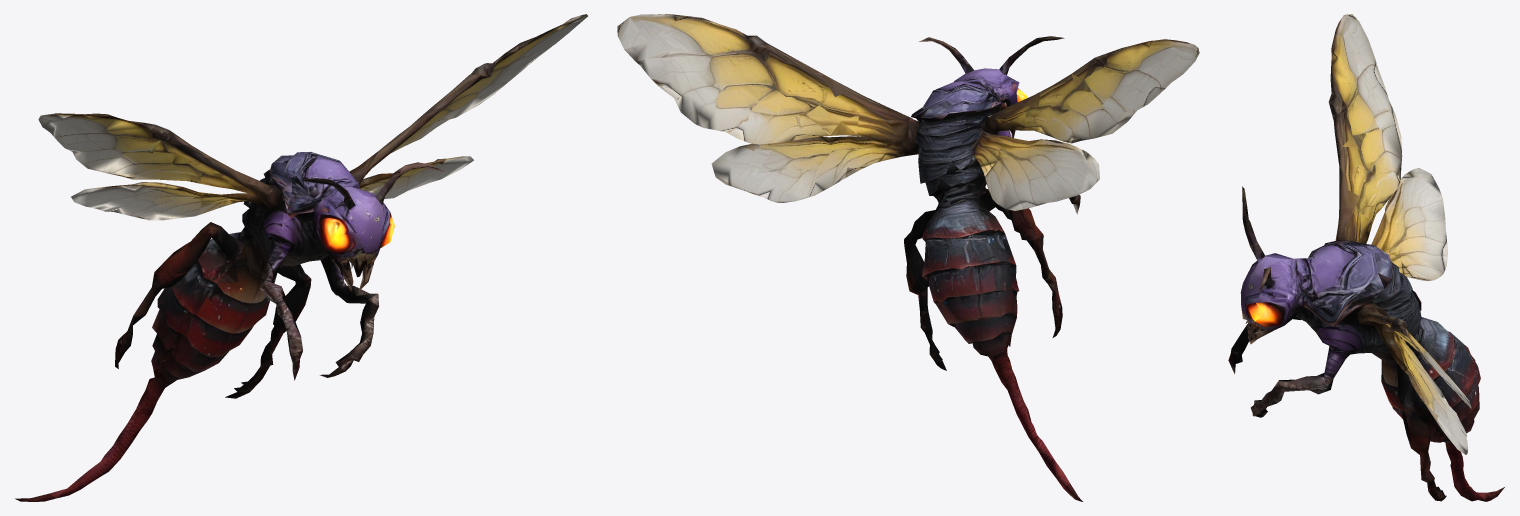
The model's file is enemy_wing.glb.
The picture shows the model from 3 angles, left to right: view 1: azimuth 30°, elevation 25°; view 2: azimuth 150°, elevation 25°; view 3: azimuth 270°, elevation 25°; orthographic projection. The views are drawn at different scales.
Parts seen in each view (by area): view 1: enemy_wing; view 2: enemy_wing; view 3: enemy_wing.
Boxes of the visible parts, x1=… form: enemy_wing: x1=15, y1=14, x2=587, y2=501; enemy_wing: x1=617, y1=14, x2=1199, y2=501; enemy_wing: x1=1228, y1=14, x2=1504, y2=501.
Bounding box in the file's own units: 1.36 × 1 × 0.5528.
1 material, 1 textured.
